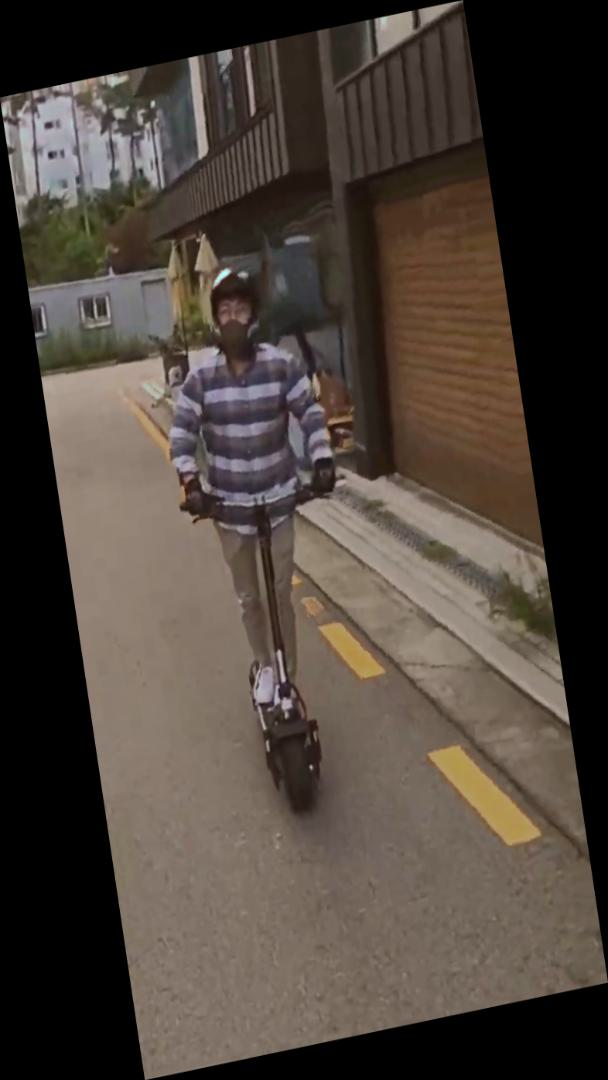helmet: (140, 248, 388, 833)
